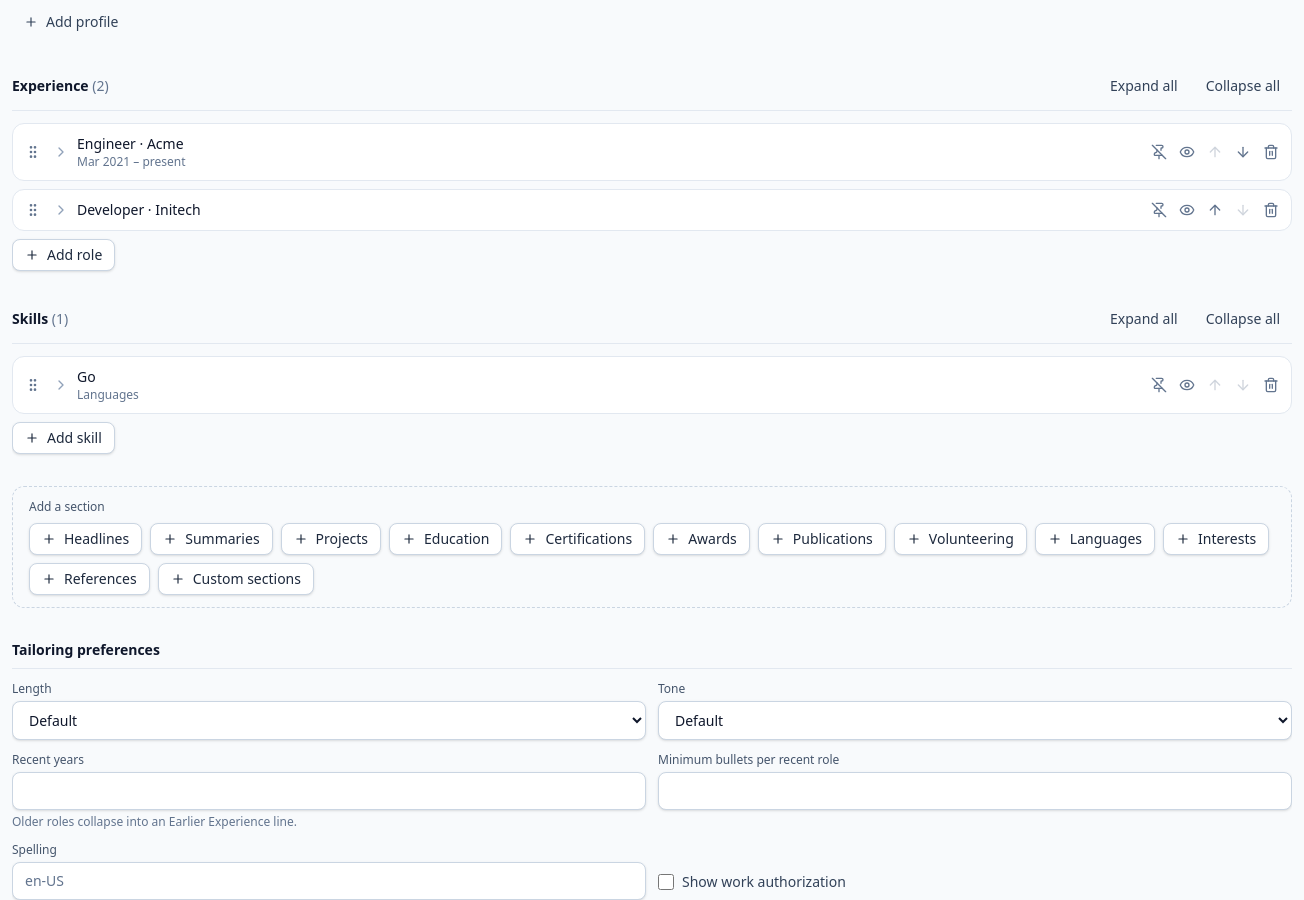
it: MasterEditor › adds a section that was empty
The image size is (1304, 900).
(page scrolled)
Click the button "Certifications" at (578,539), box [510,523,645,555]
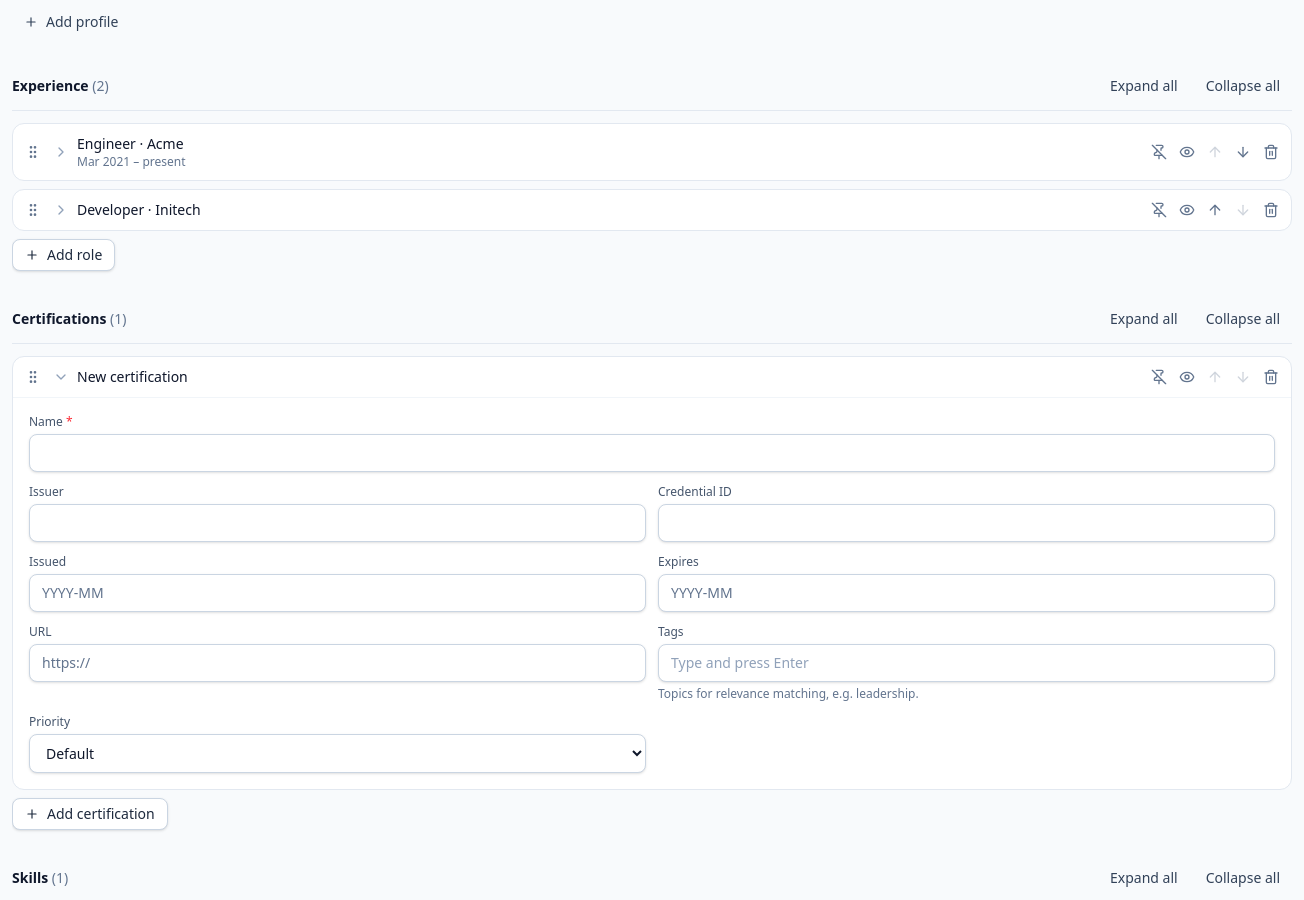
Type "CKA" into the field labelled "Name *" at (652,453), box [29,434,1275,472]
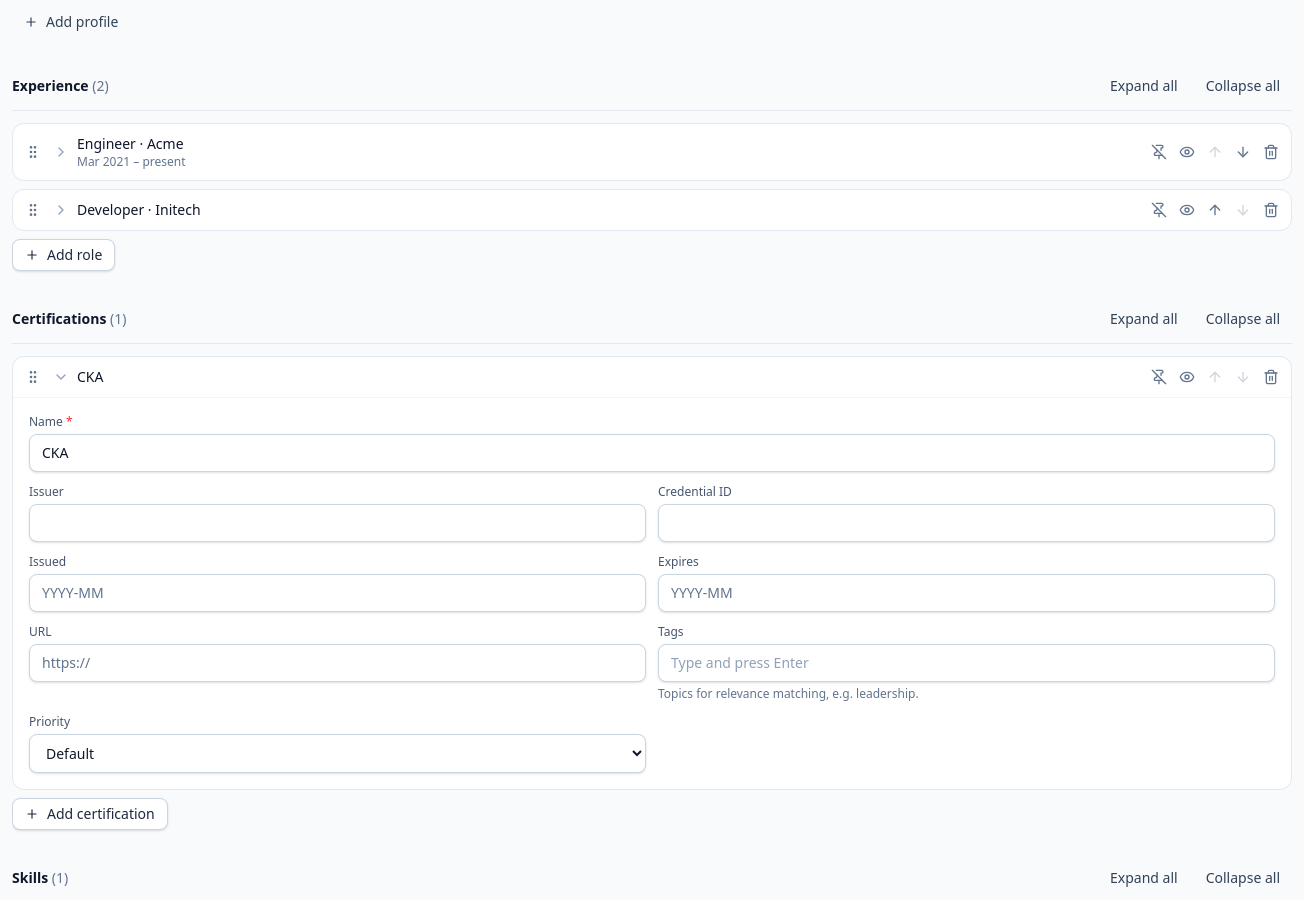
Now the text "CKA" is shown, box [77,367,104,386]
